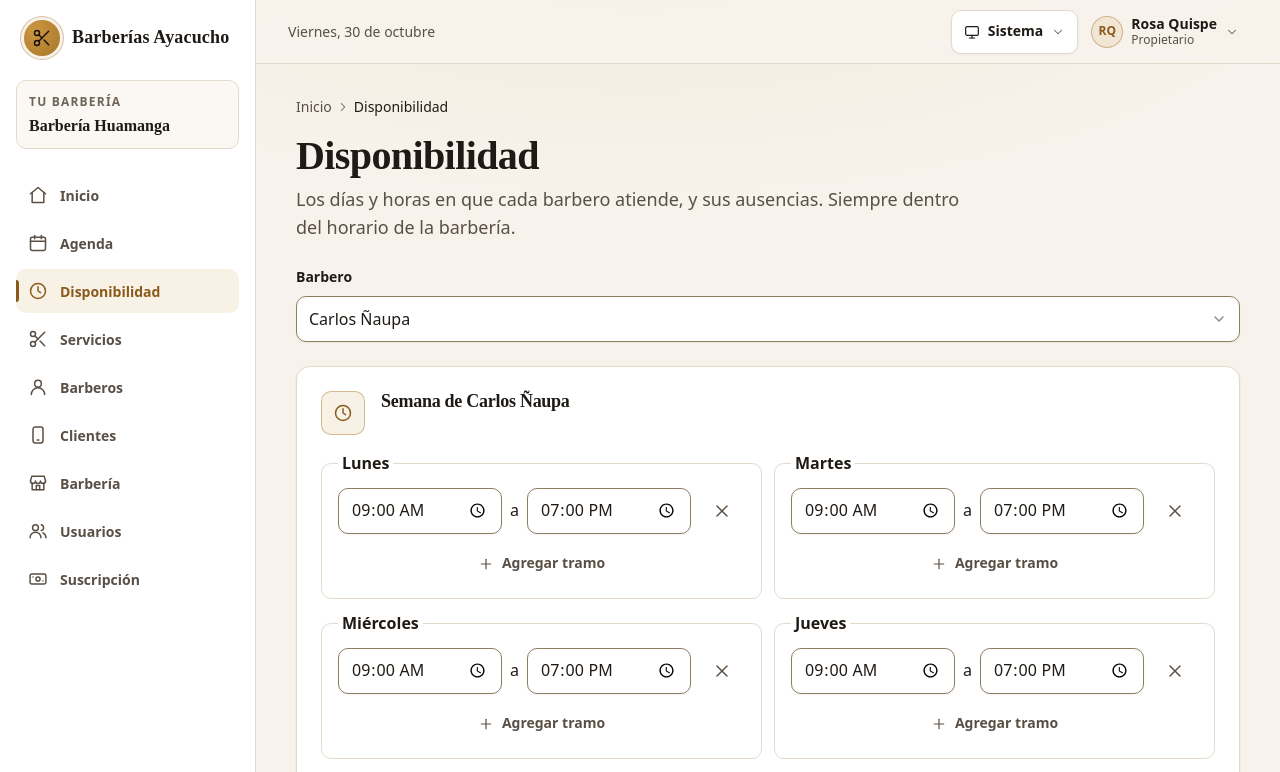
Test: Disponibilidad (/app/disponibilidad) › el propietario elige un barbero y guarda su semana
The image size is (1280, 772).
Select "Luis" in the dropdown labelled "Barbero" at (768, 319), box left=296, top=296, right=1240, bottom=342
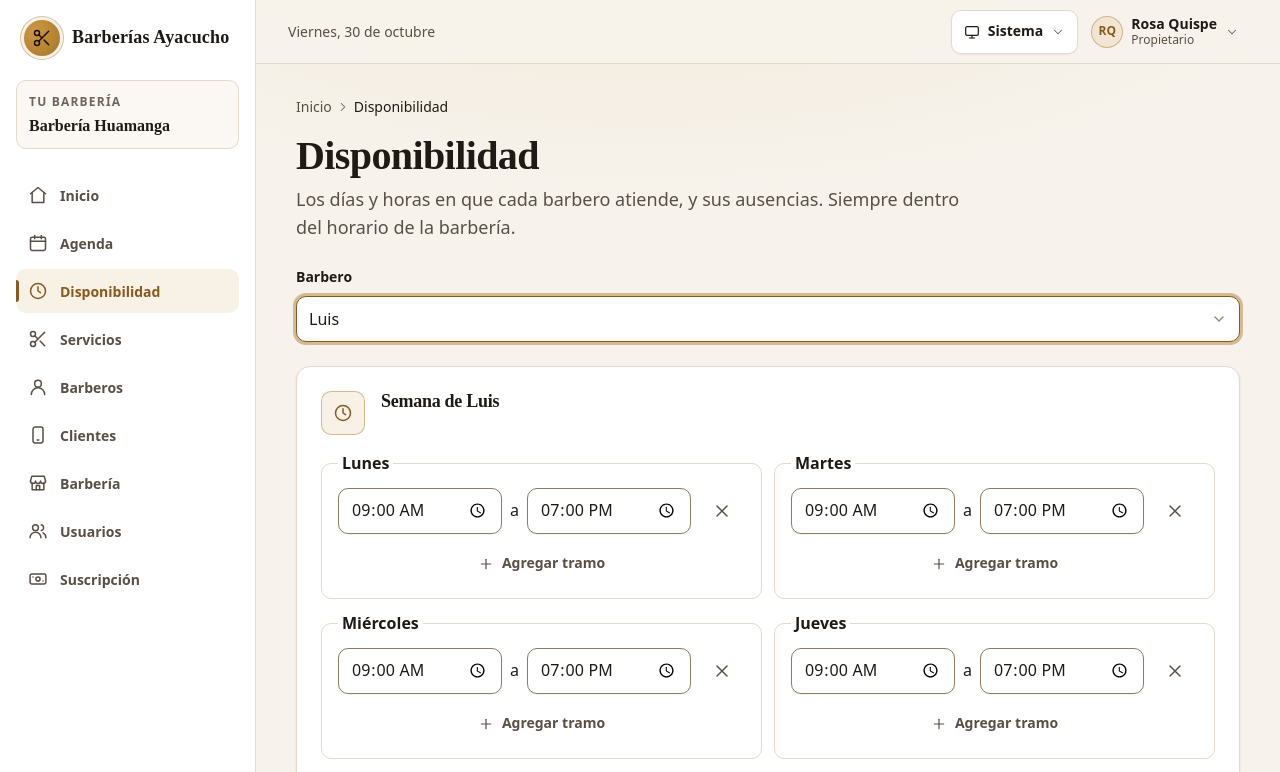
Replace the text in the time field named "Lunes, cierre del tramo 1" with "14:00" at (609, 511), box left=527, top=488, right=691, bottom=534
(page scrolled)
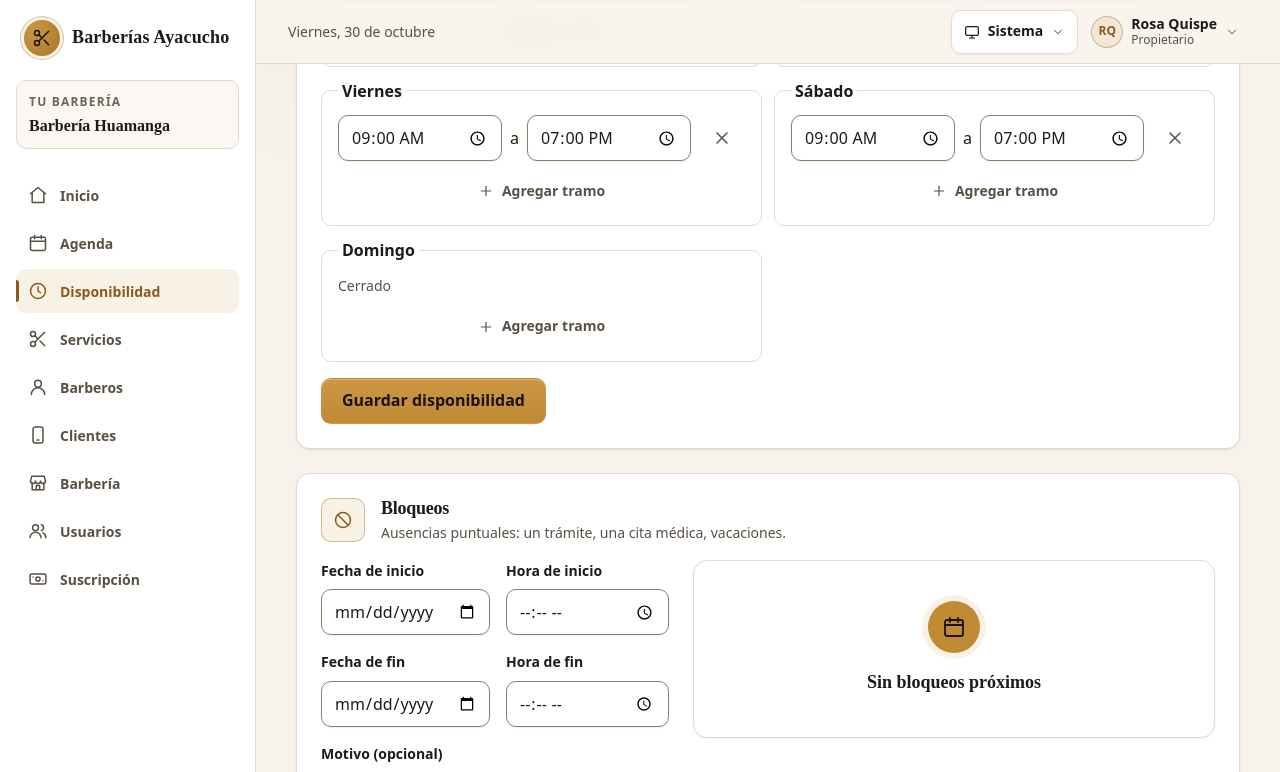
Click the button "Guardar disponibilidad" at (434, 401), box left=321, top=378, right=546, bottom=424
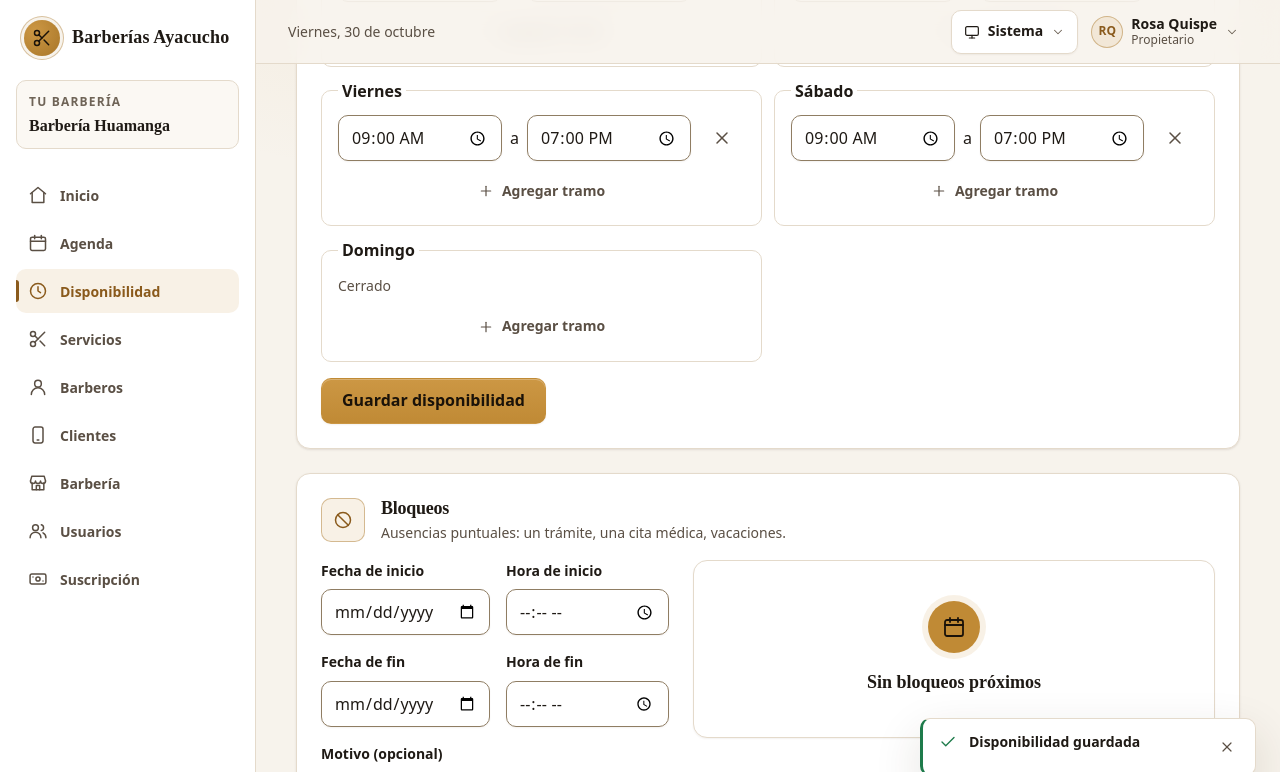
Expected: the text "Disponibilidad guardada" is shown, left=969, top=732, right=1140, bottom=751
